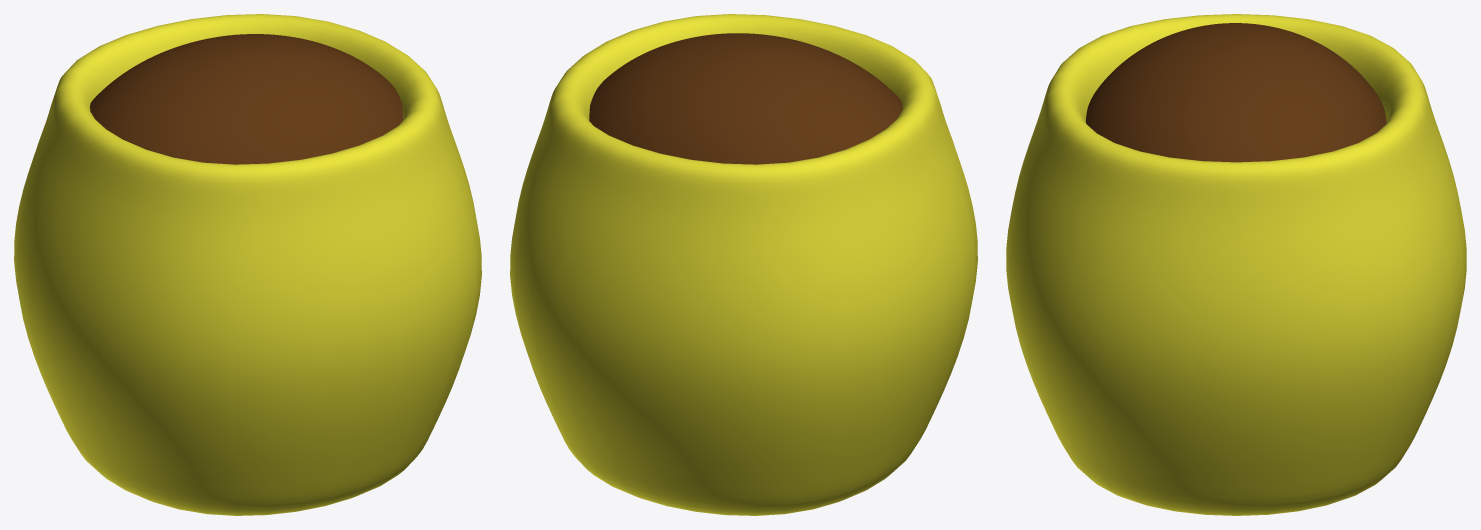
File: mac invierno 2.fbx
3 views of the same model, side by side, from view 1: azimuth 30°, elevation 25°; view 2: azimuth 150°, elevation 25°; view 3: azimuth 270°, elevation 25° (orthographic).
Visible parts, largest first — view 1: Cube.083; view 2: Cube.083; view 3: Cube.083.
Boxes of the visible parts, left/top/right/bottom form: Cube.083: left=14, top=14, right=481, bottom=515; Cube.083: left=510, top=14, right=977, bottom=515; Cube.083: left=1006, top=14, right=1466, bottom=515.
Size of the model in its own units: 31.43 by 31.16 by 31.43.
